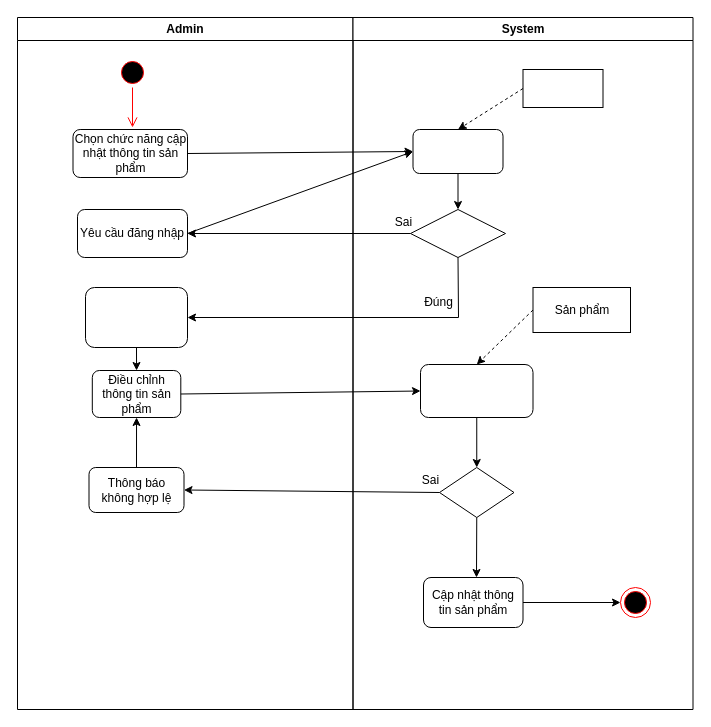
This 711x727 diagram has some shape labels left out. Each missing label, with the box of its shape:
Chọn sản phẩm muốn cập nhật thông tin: (84, 286, 188, 348)
Kiểm tra thông tin sản phẩm được cập nhật: (420, 364, 533, 418)
Kiểm tra đăng nhập: (412, 128, 503, 174)
Tài khoản: (522, 68, 603, 108)
